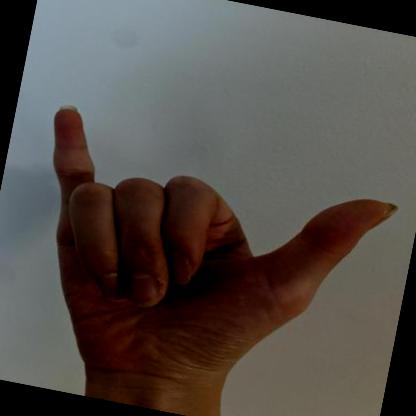Y: (52, 105, 397, 386)
